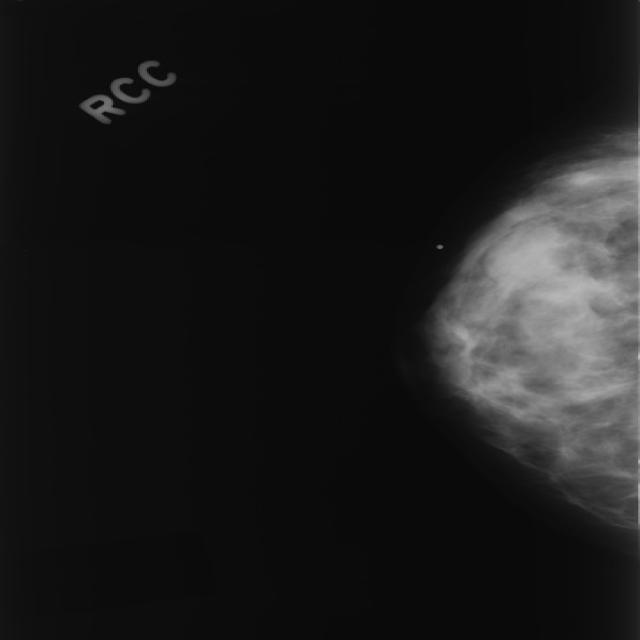tumour: (482, 223, 561, 280)
